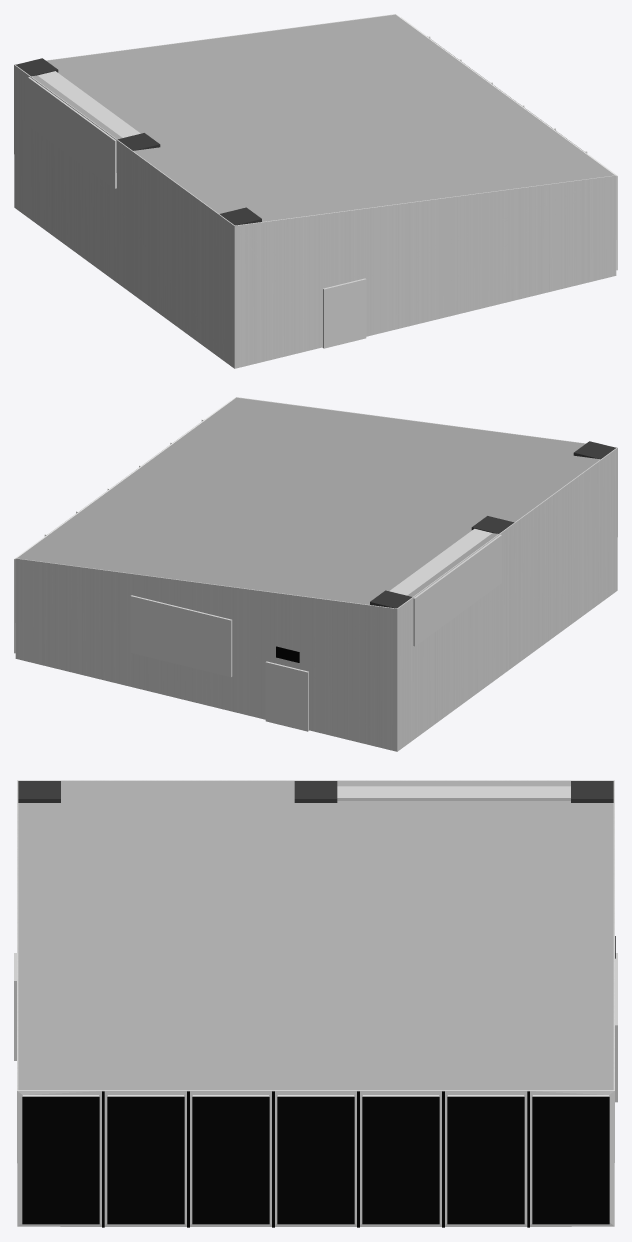
File: nivel3.fbx
3 renders of one model, top to bottom at view 1: azimuth 30°, elevation 25°; view 2: azimuth 150°, elevation 25°; view 3: azimuth 270°, elevation 25°, orthographic. The views are drawn at different scales.
Visible parts, largest first — view 1: Plane, Plane.003, Cube.002, Cube.003; view 2: Plane, Plane.003, Cube.005, Cube.004, Cube.003; view 3: Plane, Plane.003, Cube.003.
Boxes of the visible parts, <box> form: Plane: <box>14,14,617,368</box>; Plane.003: <box>28,71,140,188</box>; Cube.002: <box>322,278,366,348</box>; Cube.003: <box>15,58,261,225</box>; Plane: <box>14,397,617,751</box>; Plane.003: <box>389,528,501,646</box>; Cube.005: <box>130,595,232,677</box>; Cube.004: <box>265,661,309,731</box>; Cube.003: <box>370,441,616,608</box>; Plane: <box>17,780,614,1227</box>; Plane.003: <box>337,786,570,800</box>; Cube.003: <box>18,781,613,802</box>.
Bounding box in the file's own units: 1425 × 504 × 1421.
